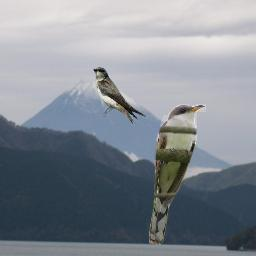Cuckoo: (149, 104, 206, 245)
Swallow: (93, 67, 146, 125)
